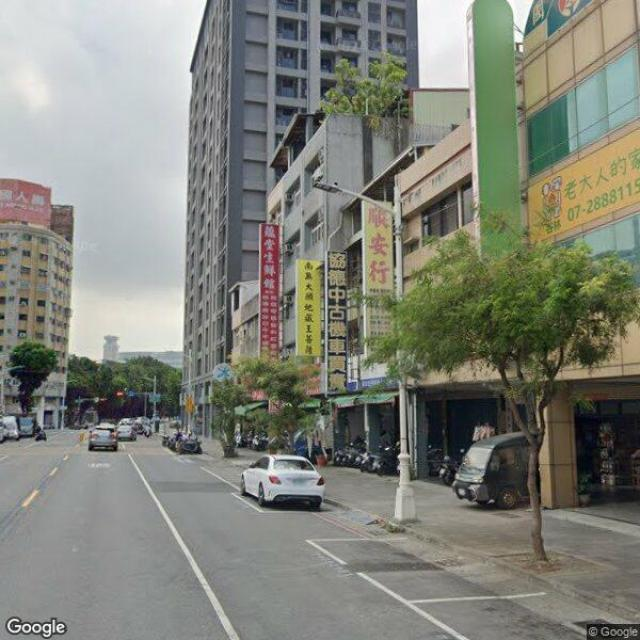Legalparking: (451, 416, 590, 518), (241, 456, 340, 522), (330, 428, 421, 478)
illegalparking: (72, 397, 218, 480)
